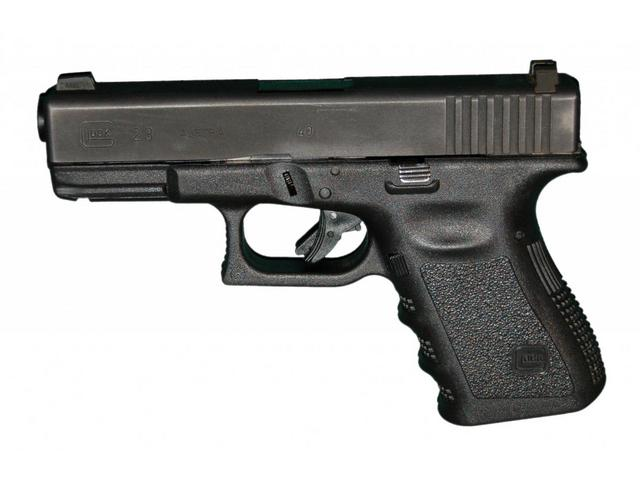pistol: (36, 59, 606, 427)
